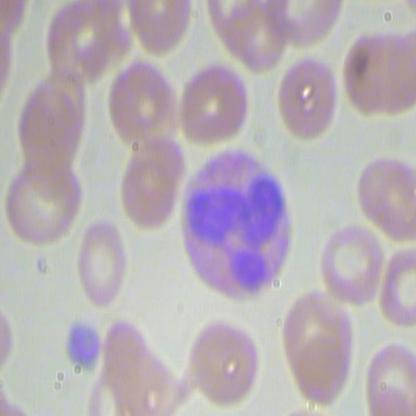Platelets: (59, 319, 107, 371)
RBC: (3, 155, 88, 250), (181, 310, 265, 405), (105, 56, 178, 152), (173, 60, 252, 148), (320, 217, 387, 308), (354, 153, 415, 249), (277, 54, 344, 141), (70, 217, 130, 310)
WBC: (178, 141, 299, 303)
